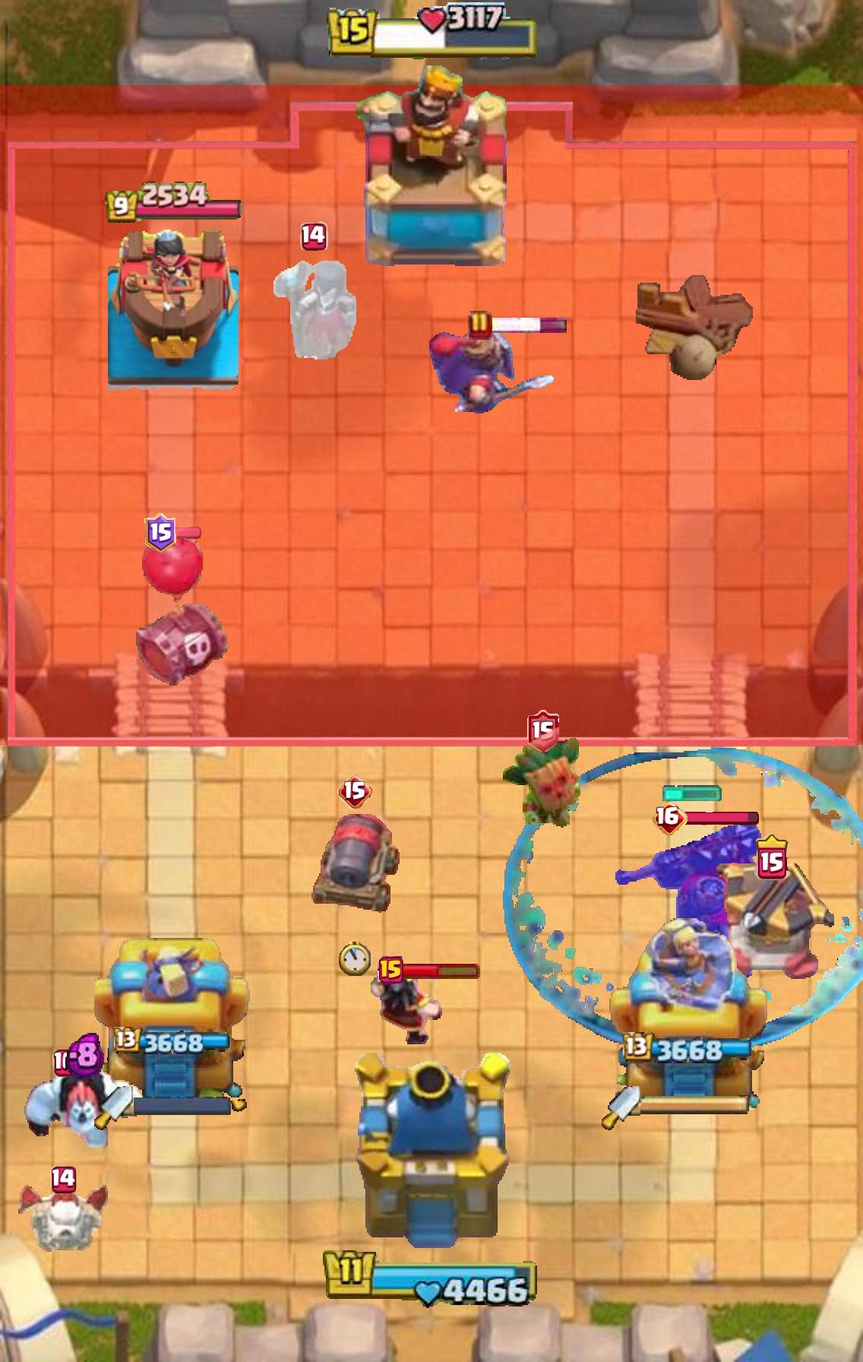elixir: (66, 1032, 104, 1078)
